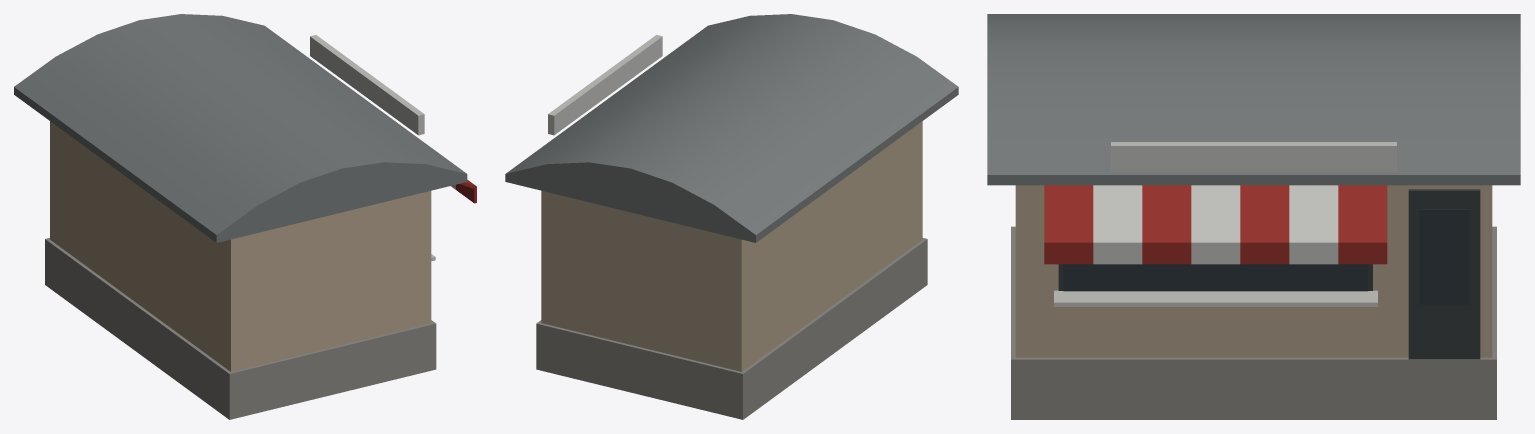
File: SM_Prop_cafe_building_4_LOD1.glb
3 views of the same model, side by side, from view 1: azimuth 30°, elevation 25°; view 2: azimuth 150°, elevation 25°; view 3: azimuth 270°, elevation 25° (orthographic). The views are drawn at different scales.
Parts seen in each view (by area): view 1: SM_Prop_cafe_building_4_LOD1; view 2: SM_Prop_cafe_building_4_LOD1; view 3: SM_Prop_cafe_building_4_LOD1.
Boxes of the visible parts, bbox=[...] form: SM_Prop_cafe_building_4_LOD1: bbox=[14, 14, 476, 419]; SM_Prop_cafe_building_4_LOD1: bbox=[505, 14, 958, 419]; SM_Prop_cafe_building_4_LOD1: bbox=[987, 14, 1520, 419].
Bounding box in the file's own units: 4.5 × 3.55 × 5.6.
